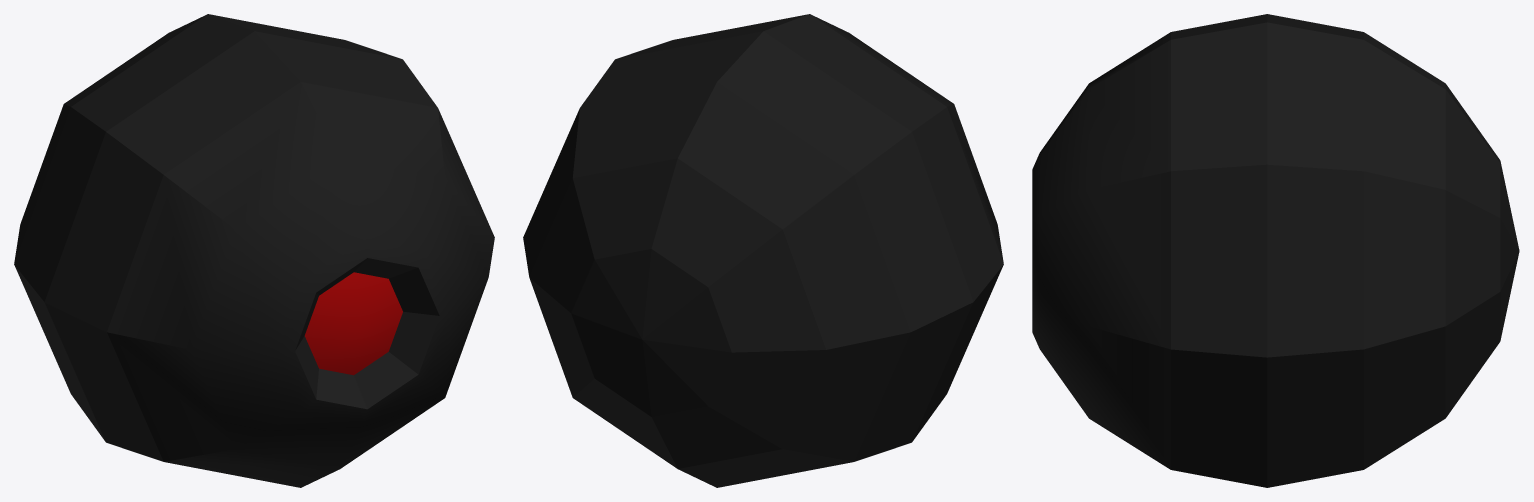
The model's file is chaser.fbx.
The picture shows the model from 3 angles, left to right: view 1: azimuth 30°, elevation 25°; view 2: azimuth 150°, elevation 25°; view 3: azimuth 270°, elevation 25°; orthographic projection. The views are drawn at different scales.
Visible parts, largest first — view 1: chaser; view 2: chaser; view 3: chaser.
Boxes of the visible parts, bbox=[...] form: chaser: bbox=[14, 14, 494, 487]; chaser: bbox=[523, 14, 1003, 487]; chaser: bbox=[1032, 14, 1519, 487].
Bounding box in the file's own units: 3.44 × 3.44 × 3.33.
